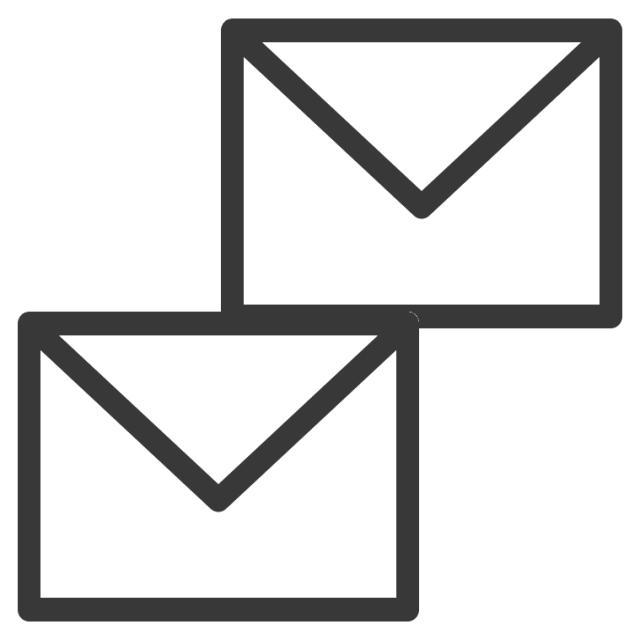letter: (204, 10, 632, 339), (14, 299, 431, 634)
